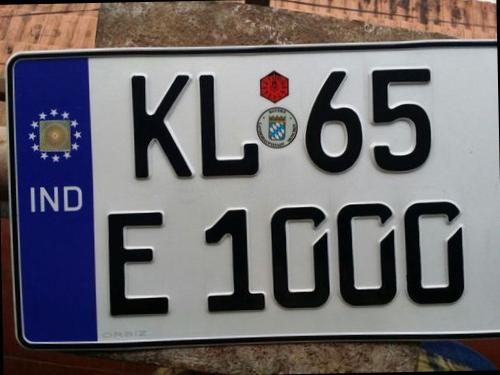plate: (19, 45, 500, 366)
